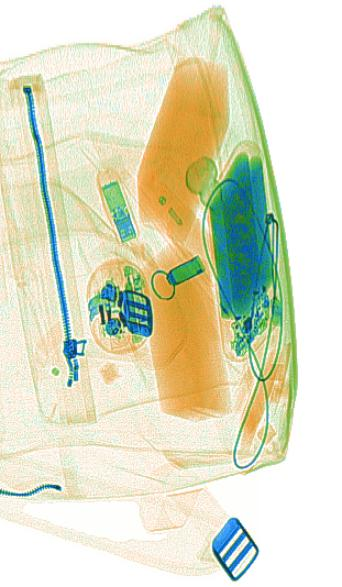USBFlashDisk: (100, 181, 139, 243)
plasticBottleWithaNozzle: (137, 181, 230, 287)
